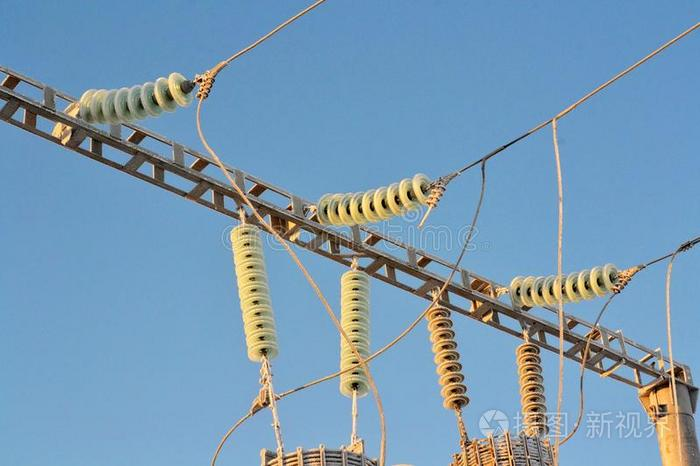insulator: (231, 221, 277, 361), (316, 172, 434, 225), (80, 70, 190, 121), (510, 264, 619, 308), (428, 306, 470, 408), (338, 271, 372, 396), (516, 342, 551, 436)
